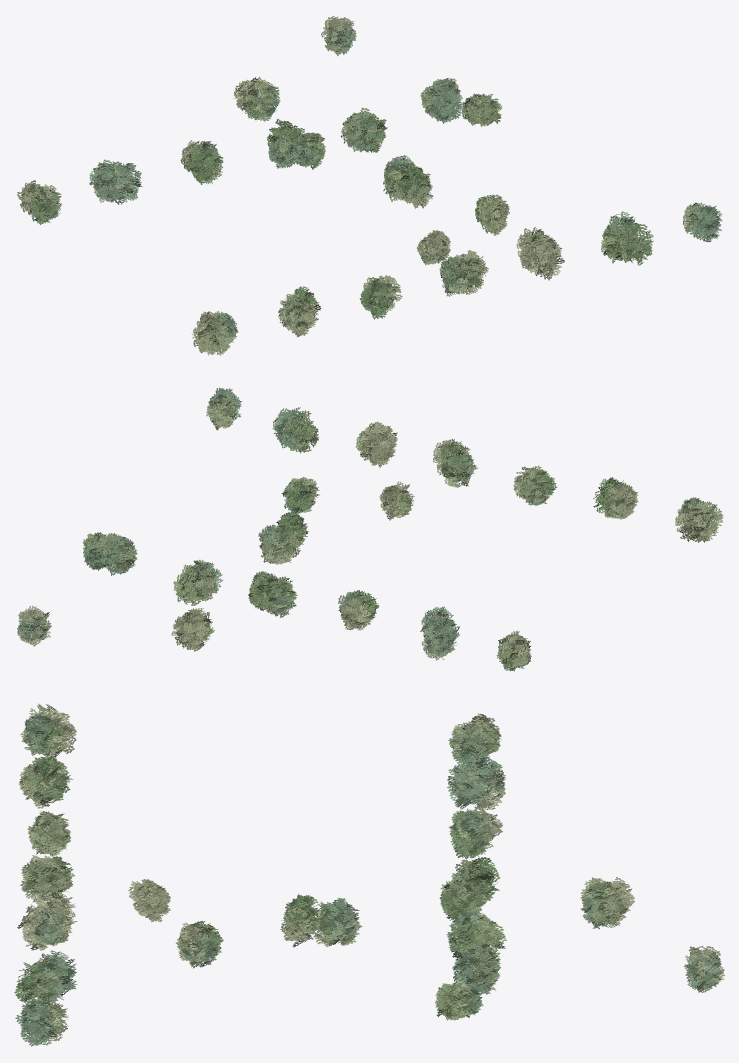
The model's file is campus-tree--5_-1-near.glb.
The picture shows the model from 3 angles, top to bottom: view 1: azimuth 30°, elevation 25°; view 2: azimuth 150°, elevation 25°; view 3: azimuth 270°, elevation 25°; orthographic projection. The views are drawn at different scales.
Parts seen in each view (by area): view 1: Campus leaf canopy; view 2: Campus leaf canopy; view 3: Campus leaf canopy.
Part boxes in pixels (<box>): Campus leaf canopy: <box>17,16,722,355</box>; Campus leaf canopy: <box>17,387,723,671</box>; Campus leaf canopy: <box>14,703,724,1046</box>.
Bounding box in the file's own units: 72.3 × 7.66 × 71.41.
1 material, 1 textured.
